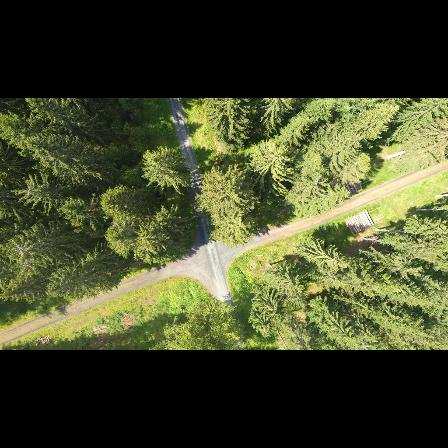Sick: (6, 234, 37, 264), (11, 251, 41, 281)
